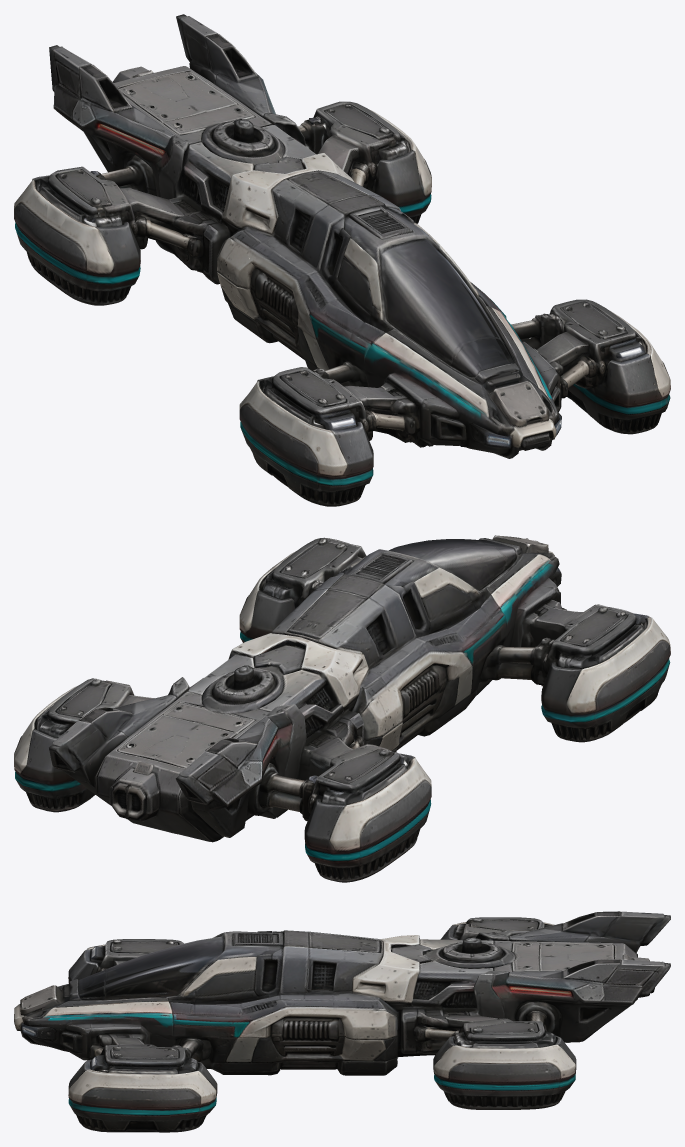
Rendered from skimmer.glb.
3 renders of one model, top to bottom at view 1: azimuth 30°, elevation 25°; view 2: azimuth 150°, elevation 25°; view 3: azimuth 270°, elevation 25°, orthographic. The views are drawn at different scales.
Parts seen in each view (by area): view 1: chassis; view 2: chassis; view 3: chassis.
Part boxes in pixels (box(x1,y1,x2,y2)): chassis: box(14, 14, 670, 506); chassis: box(14, 535, 670, 882); chassis: box(14, 911, 670, 1132).
Bounding box in the file's own units: 2.35 × 1 × 4.6.
1 material, 1 textured.
